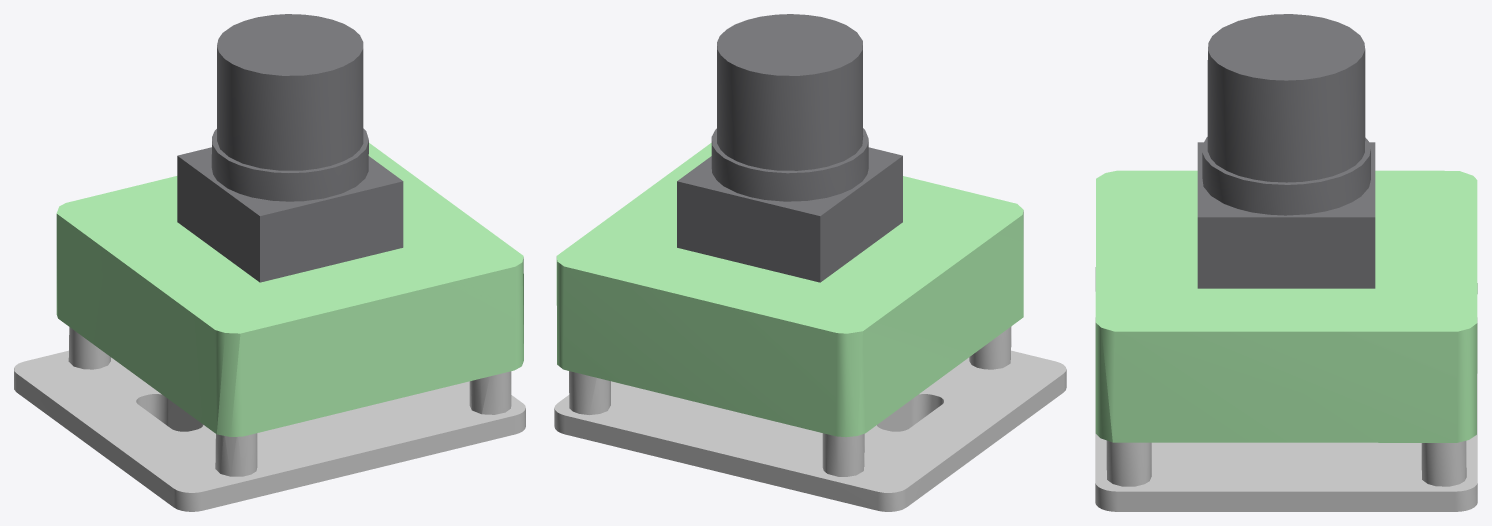
Rendered from b0495_camera.dae.
3 views of the same model, side by side, from view 1: azimuth 30°, elevation 25°; view 2: azimuth 150°, elevation 25°; view 3: azimuth 270°, elevation 25° (orthographic). The views are drawn at different scales.
Visible parts, largest first — view 1: b0495_camera_00, b0495_camera_02, b0495_camera_01; view 2: b0495_camera_00, b0495_camera_02, b0495_camera_01; view 3: b0495_camera_00, b0495_camera_02, b0495_camera_01.
Boxes of the visible parts, x1,y1,x2,y2 form: b0495_camera_00: (56, 143, 523, 436); b0495_camera_02: (177, 14, 403, 282); b0495_camera_01: (14, 327, 525, 511); b0495_camera_00: (556, 143, 1023, 437); b0495_camera_02: (677, 14, 902, 282); b0495_camera_01: (554, 326, 1066, 511); b0495_camera_00: (1095, 170, 1477, 442); b0495_camera_02: (1197, 14, 1375, 288); b0495_camera_01: (1095, 317, 1477, 511).
Bounding box in the file's own units: 0.0385 × 0.034 × 0.0412.
